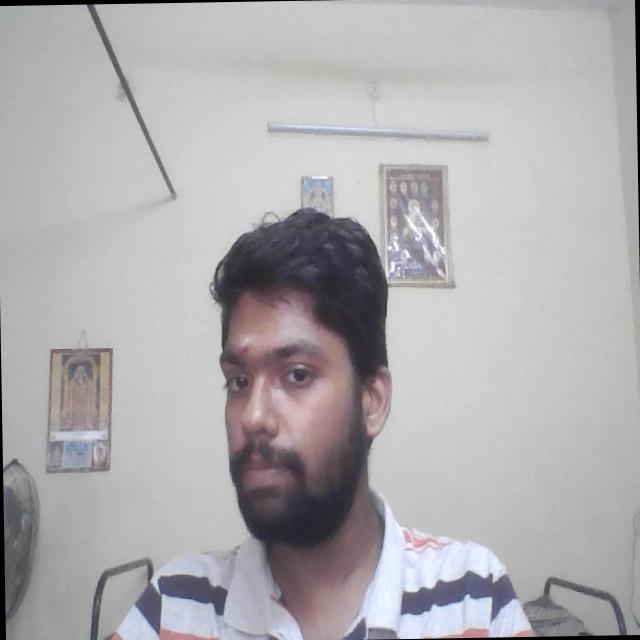Focused: (207, 301, 373, 510)
